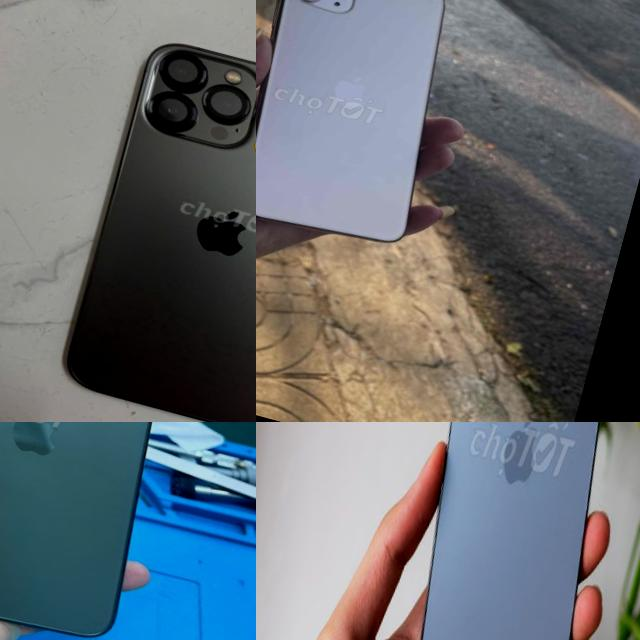gen_11: (256, 0, 480, 256), (0, 422, 207, 640)
gen_12_13: (56, 33, 256, 422), (343, 422, 640, 640)
